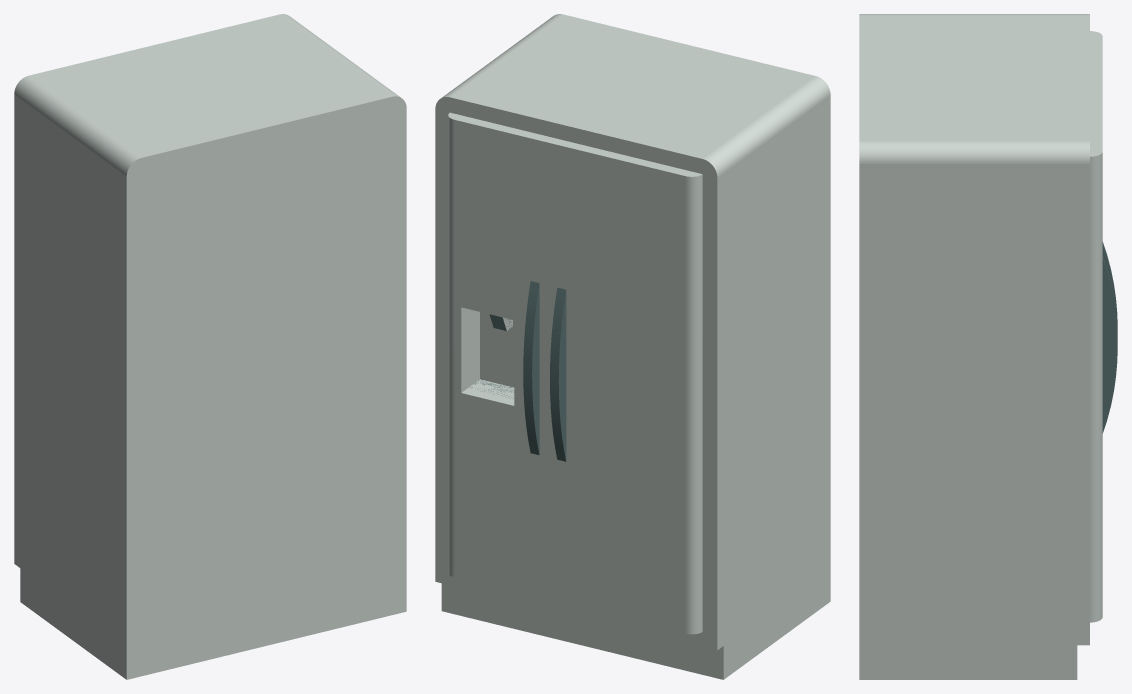
The model's file is kitchenFridgeLarge.obj.
The picture shows the model from 3 angles, left to right: view 1: azimuth 30°, elevation 25°; view 2: azimuth 150°, elevation 25°; view 3: azimuth 270°, elevation 25°; orthographic projection. The views are drawn at different scales.
Visible parts, largest first — view 1: kitchenFridgeLarge; view 2: kitchenFridgeLarge, doorRight, doorLeft; view 3: kitchenFridgeLarge, doorLeft, doorRight.
Boxes of the visible parts, x1,y1,x2,y2 form: kitchenFridgeLarge: (14, 14, 406, 679); kitchenFridgeLarge: (435, 14, 830, 679); doorRight: (548, 138, 702, 634); doorLeft: (448, 112, 554, 599); kitchenFridgeLarge: (859, 14, 1089, 679); doorLeft: (1090, 104, 1117, 622); doorRight: (1090, 31, 1117, 332).
Size of the model in its own units: 0.52 by 0.92 by 0.4055.
